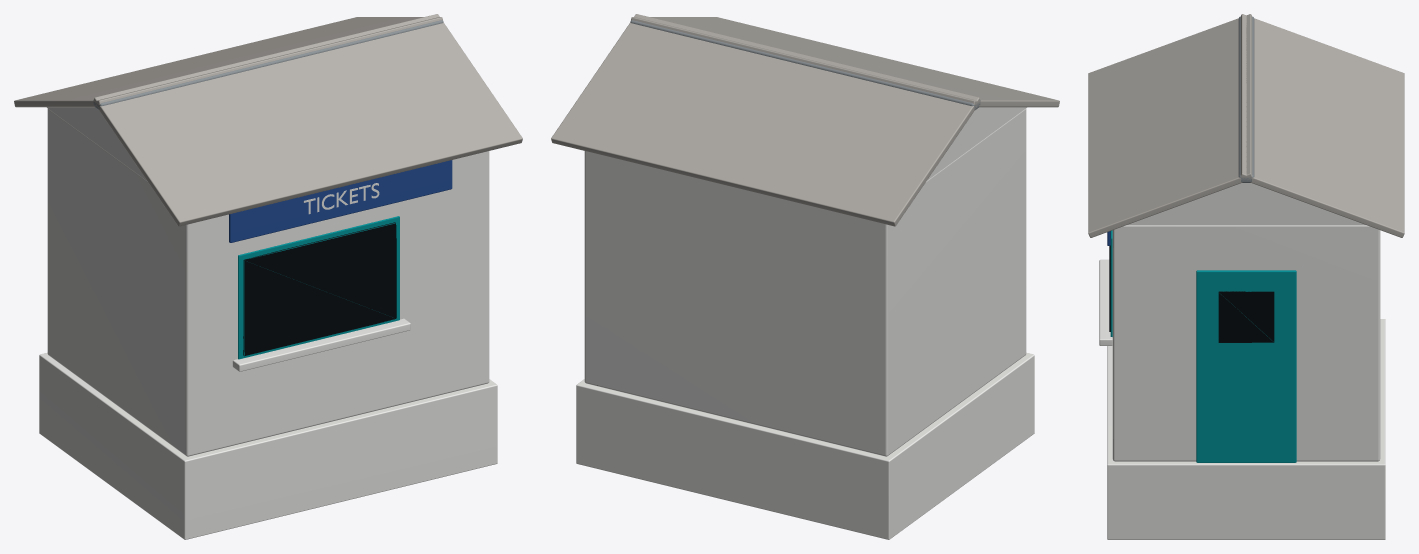
Rendered from water.ferry.hut.glb.
3 views of the same model, side by side, from view 1: azimuth 30°, elevation 25°; view 2: azimuth 150°, elevation 25°; view 3: azimuth 270°, elevation 25° (orthographic). The views are drawn at different scales.
Visible parts, largest first — view 1: main__paint_eed, main__paint_baa, main__concrete_eee, main__glass_dark, main__paint_259, main__paint_099, main__paint_889; view 2: main__paint_eed, main__paint_baa, main__concrete_eee, main__paint_889; view 3: main__paint_baa, main__paint_eed, main__concrete_eee, main__paint_099, main__glass_dark, main__paint_889.
Part boxes in pixels (box(x1,y1,x2,y2)): main__paint_eed: box(47, 107, 489, 456); main__paint_baa: box(14, 14, 522, 226); main__concrete_eee: box(39, 318, 497, 539); main__glass_dark: box(243, 222, 396, 356); main__paint_259: box(229, 160, 452, 242); main__paint_099: box(238, 216, 399, 359); main__paint_889: box(93, 20, 443, 109); main__paint_eed: box(584, 107, 1026, 456); main__paint_baa: box(551, 14, 1059, 226); main__concrete_eee: box(576, 352, 1034, 539); main__paint_889: box(630, 20, 980, 109); main__paint_baa: box(1088, 14, 1404, 237); main__paint_eed: box(1112, 183, 1380, 461); main__concrete_eee: box(1099, 259, 1385, 539); main__paint_099: box(1110, 230, 1296, 462); main__glass_dark: box(1109, 245, 1274, 342); main__paint_889: box(1238, 16, 1254, 182).
Bounding box in the file's own units: 3.4 × 3.7 × 2.84.
